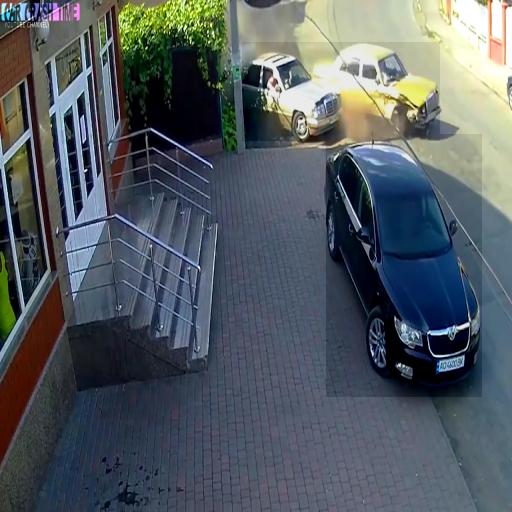小汽车: (326, 134, 482, 397)
小汽车撞小汽车: (242, 42, 440, 141)
